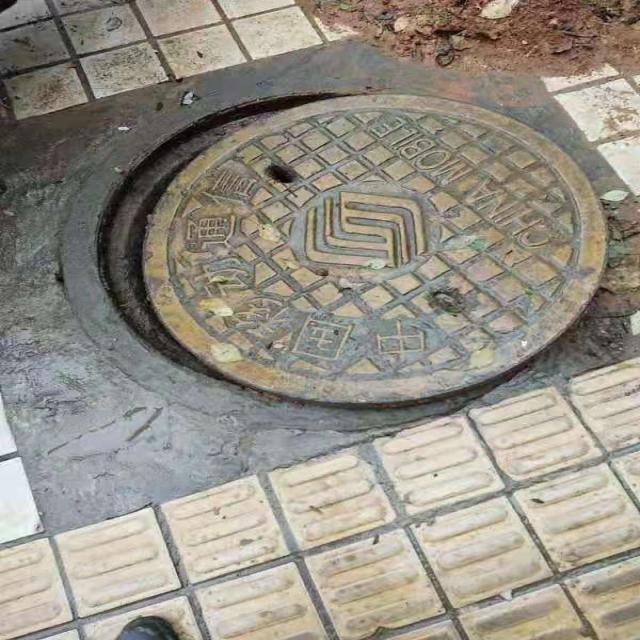Lose: (57, 80, 604, 431)
